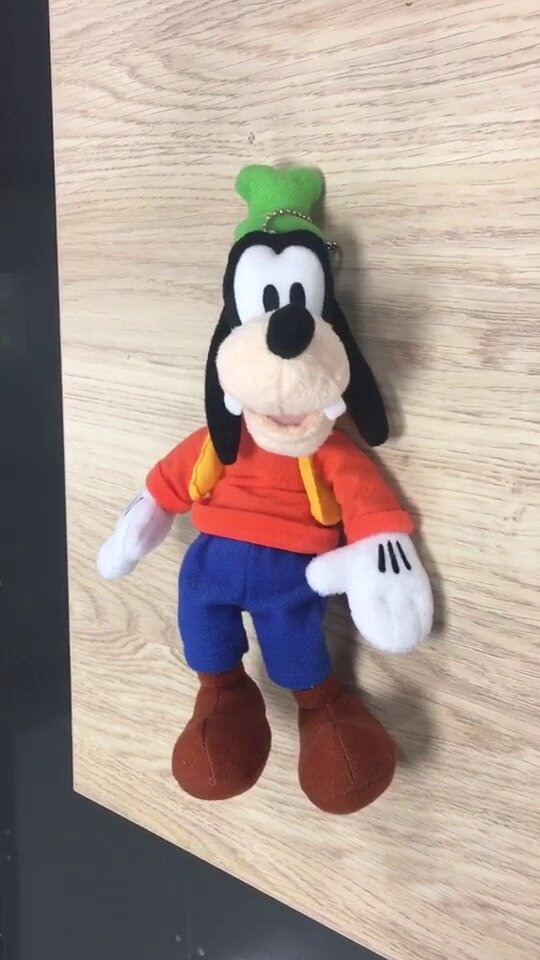goofy: (91, 158, 439, 816)
